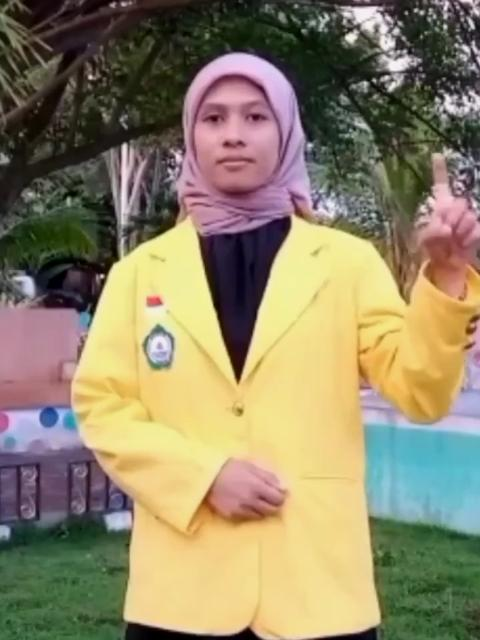X: (416, 148, 480, 274)
